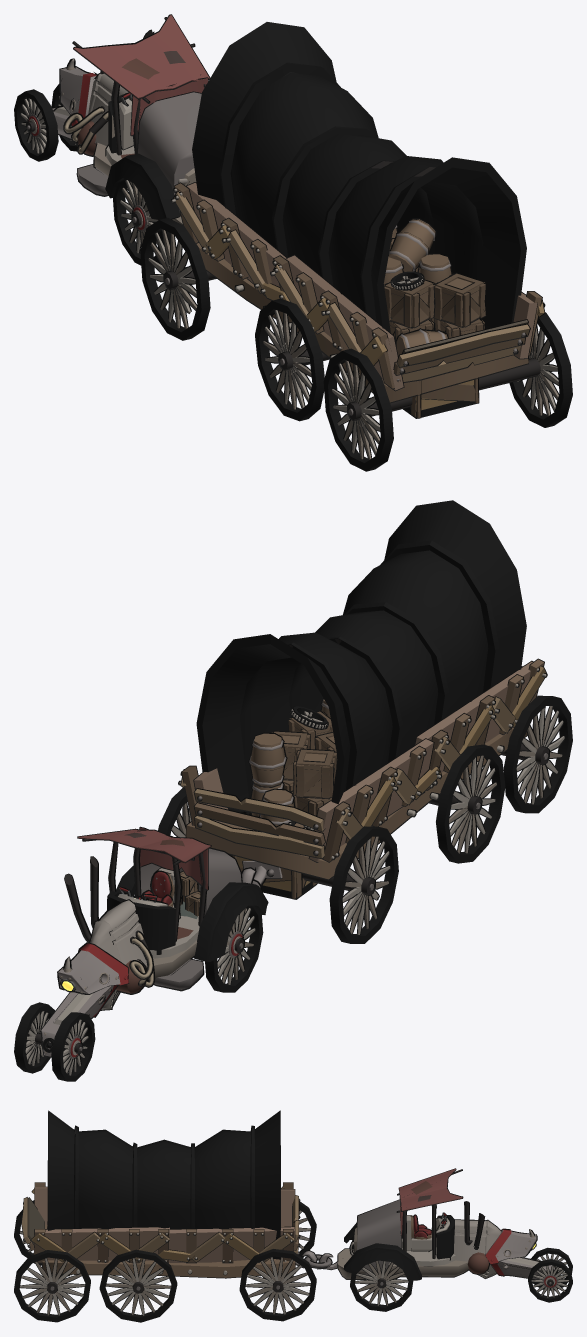
File: Cargo carpet.fbx
The picture shows the model from 3 angles, top to bottom: view 1: azimuth 30°, elevation 25°; view 2: azimuth 150°, elevation 25°; view 3: azimuth 270°, elevation 25°; orthographic projection. The views are drawn at different scales.
Parts seen in each view (by area): view 1: pCylinder601, pCylinder600; view 2: pCylinder601, pCylinder600; view 3: pCylinder601, pCylinder600.
Boxes of the visible parts, x1=… form: pCylinder601: x1=14, y1=14, x2=572, y2=471; pCylinder600: x1=21, y1=15, x2=558, y2=459; pCylinder601: x1=14, y1=500, x2=572, y2=1081; pCylinder600: x1=25, y1=638, x2=564, y2=1075; pCylinder601: x1=14, y1=1110, x2=572, y2=1322; pCylinder600: x1=20, y1=1127, x2=568, y2=1315.
Bounding box in the file's own units: 5.5 × 7.54 × 20.97.
